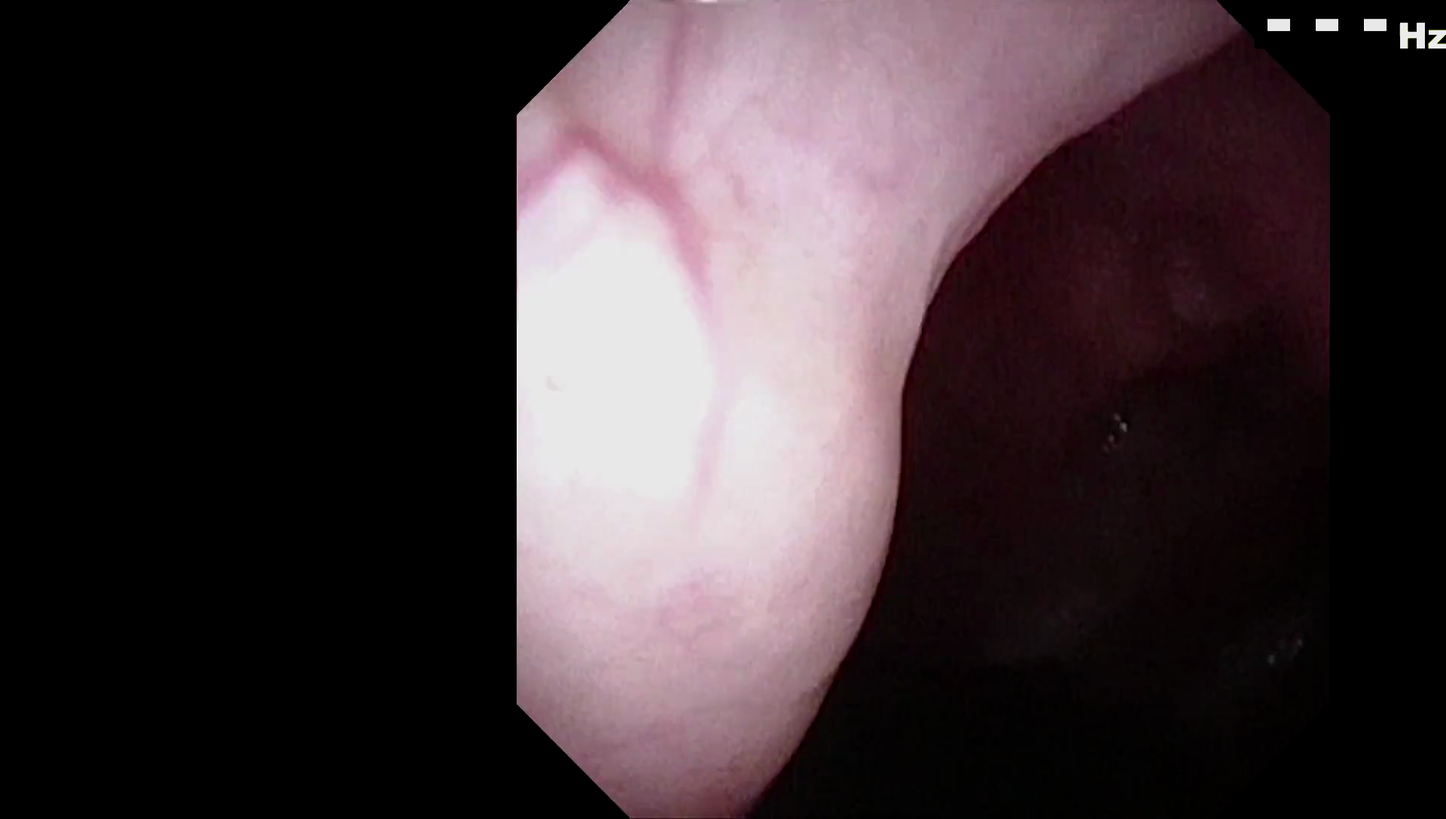close_wall: (536, 31, 1178, 696)
next: (778, 313, 1311, 819)
